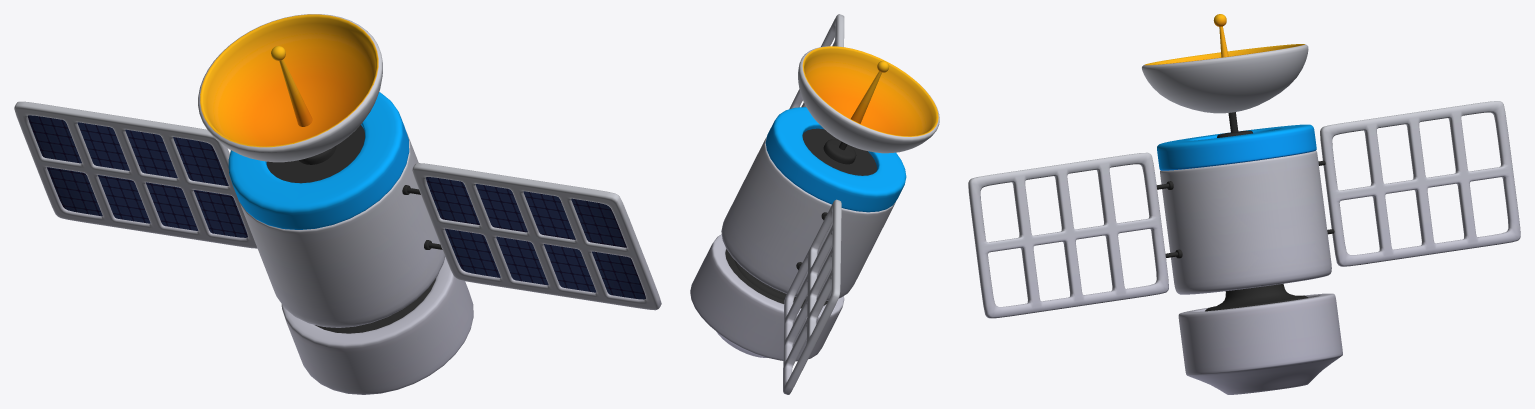
File: satellite_v2.76b104df.gltf
3 views of the same model, side by side, from view 1: azimuth 30°, elevation 25°; view 2: azimuth 150°, elevation 25°; view 3: azimuth 270°, elevation 25° (orthographic). The views are drawn at different scales.
Visible parts, largest first — view 1: Satellite (×4); view 2: Satellite (×4); view 3: Satellite (×4).
Part boxes in pixels (x1,y1,x2,y2): Satellite (×4): [14, 14, 661, 394]; Satellite (×4): [690, 14, 939, 394]; Satellite (×4): [968, 14, 1520, 394].
Size of the model in its own units: 867 by 876 by 1334.
1 material, 1 textured.
